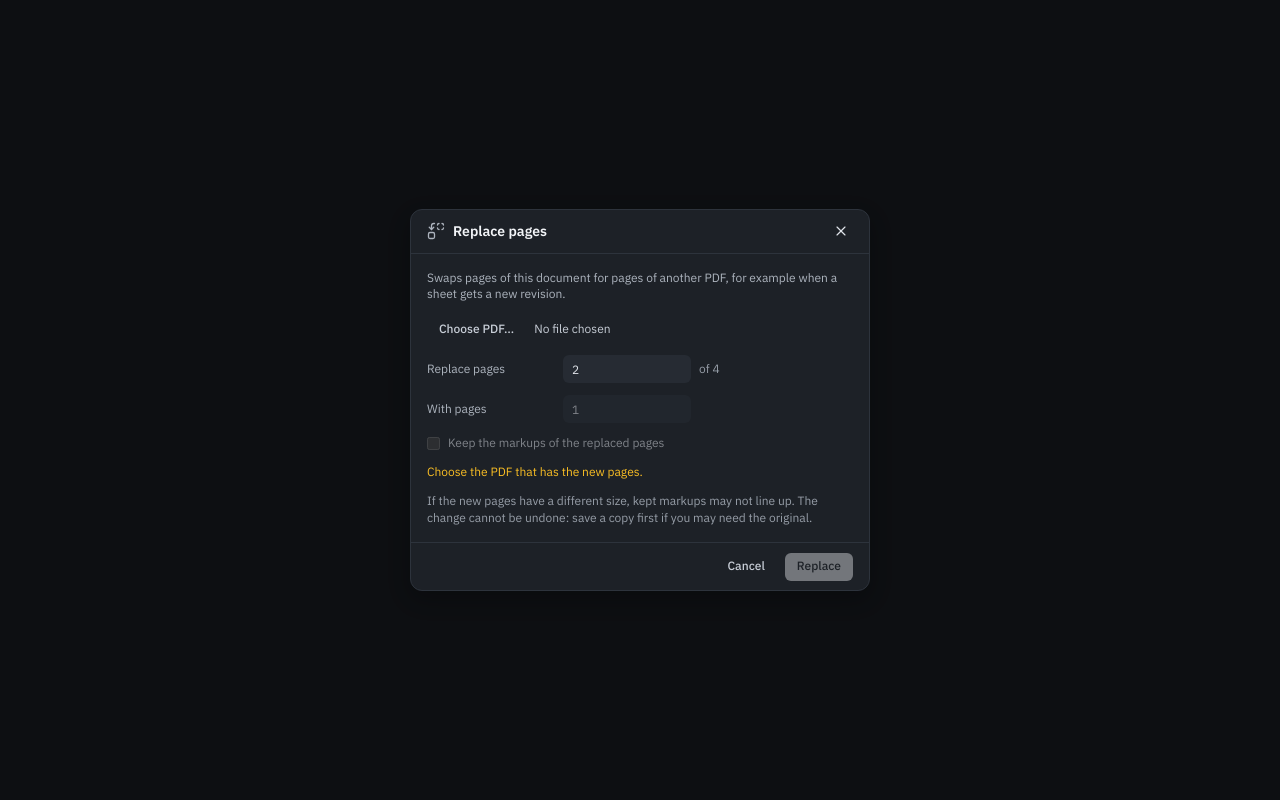
Test: Diálogos de Headers & Footers, Replace Pages y Split Document (ADR-0114) › Replace Pages: con distinta cantidad avisa de que las marcas se quitan y desactiva conservarlas
The width and height of the screenshot is (1280, 800).
Click the button with test id "replace-choose" at (477, 329), box [427,315,526,343]
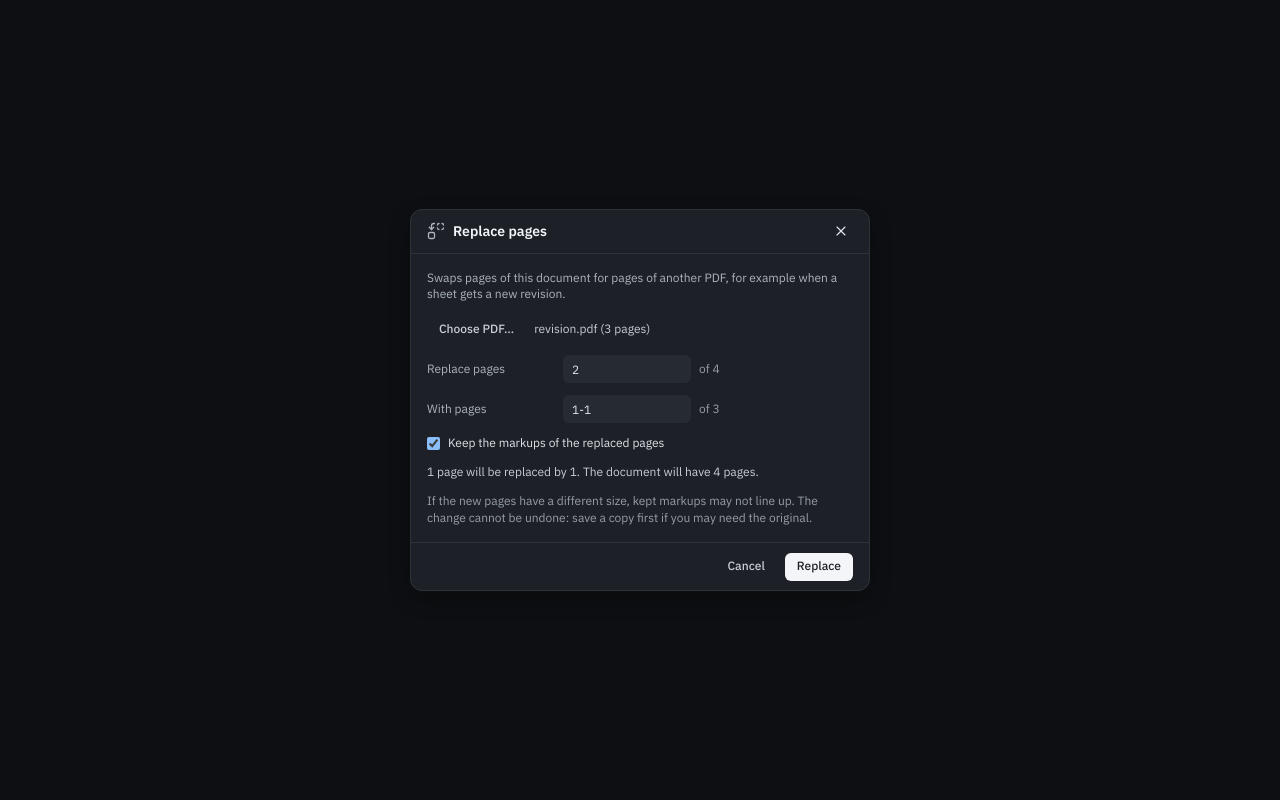
expect the text with test id "replace-source" shows "revision.pdf": met, box [534,321,650,336]
Replace the text in the field with test id "replace-source-pages" with "1-3" at (627, 409), box [563,395,691,423]
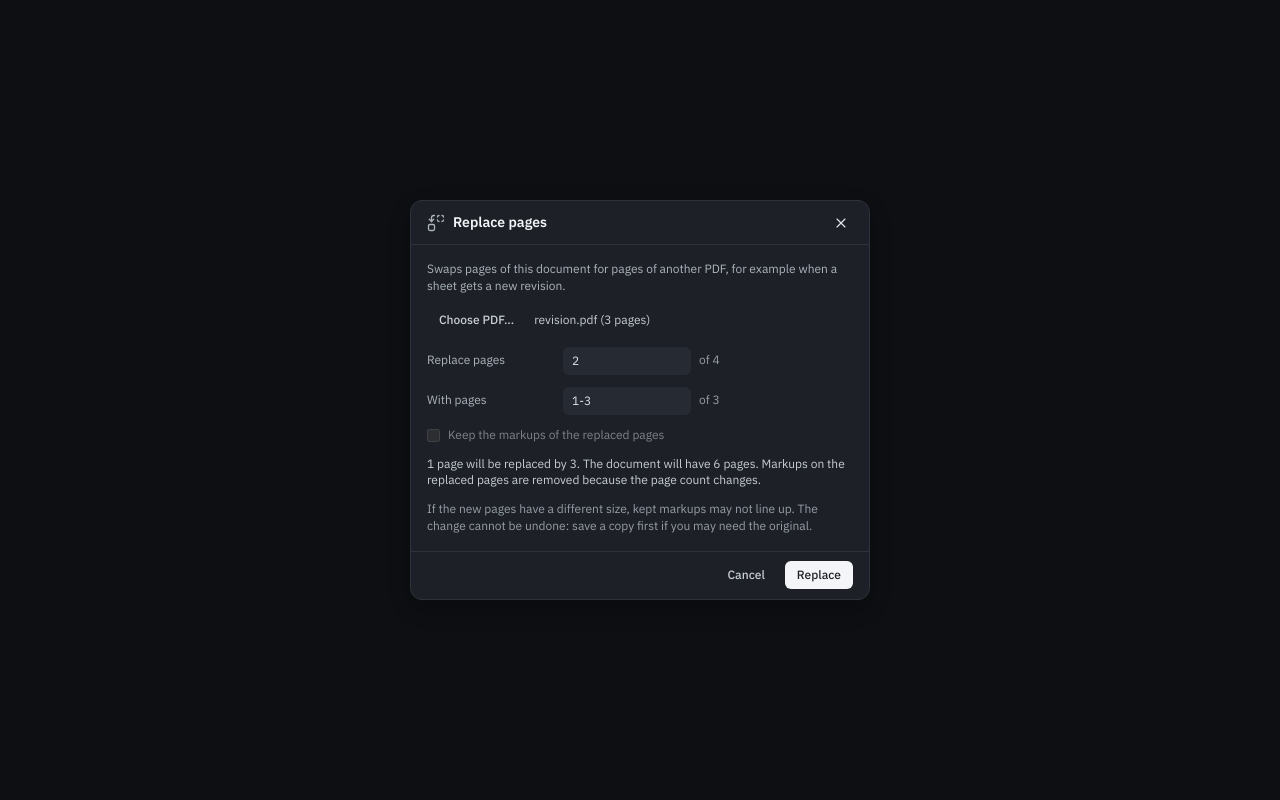
expect the text with test id "replace-summary" shows "The document will have 6 pages.": met, box [427,456,853,489]
expect the text with test id "replace-summary" shows "removed because the page count changes": met, box [427,456,845,487]
expect the checkbox with test id "replace-keep" is disabled: met, box [427,429,440,442]
Replace the text in the field with test id "replace-targets" with "9" at (627, 361), box [563,347,691,375]
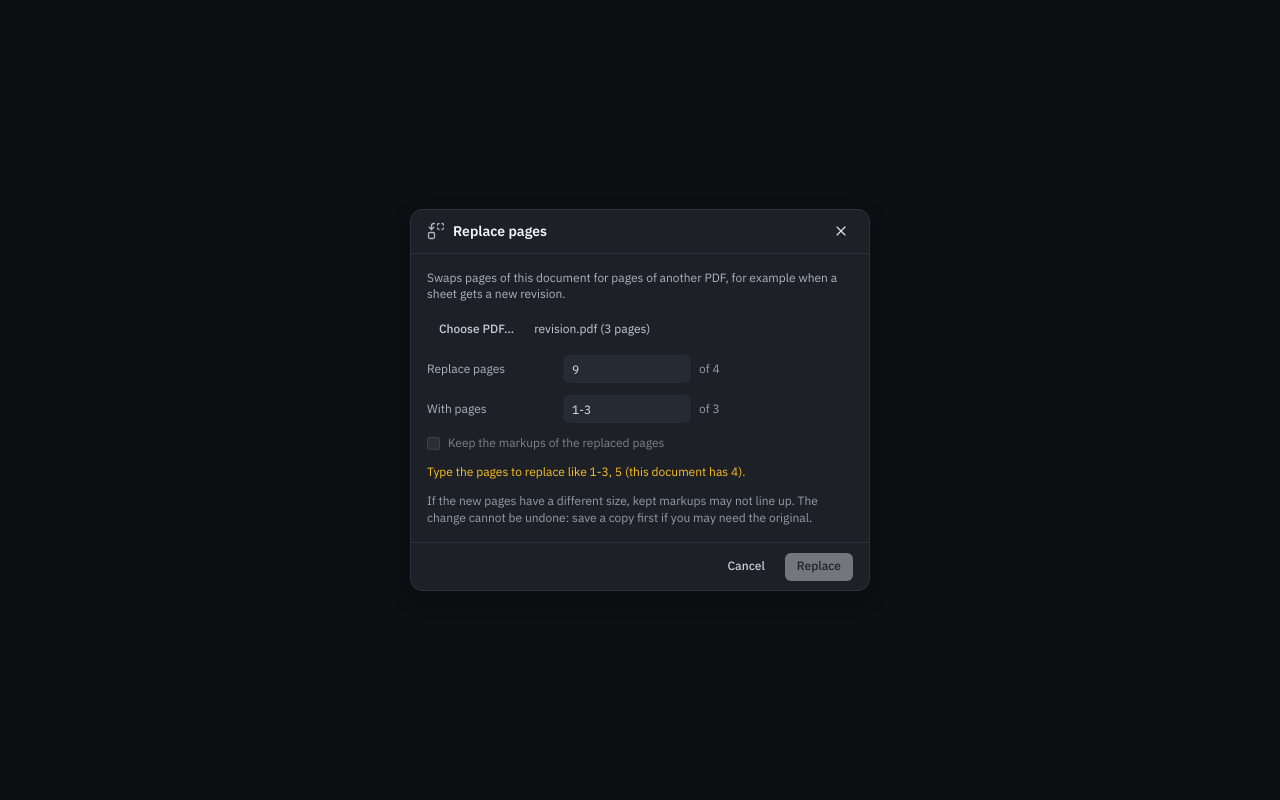
expect the text with test id "replace-problem" shows "this document has 4": met, box [427,464,746,479]
expect the button with test id "replace-apply" is disabled: met, box [785,553,853,581]
